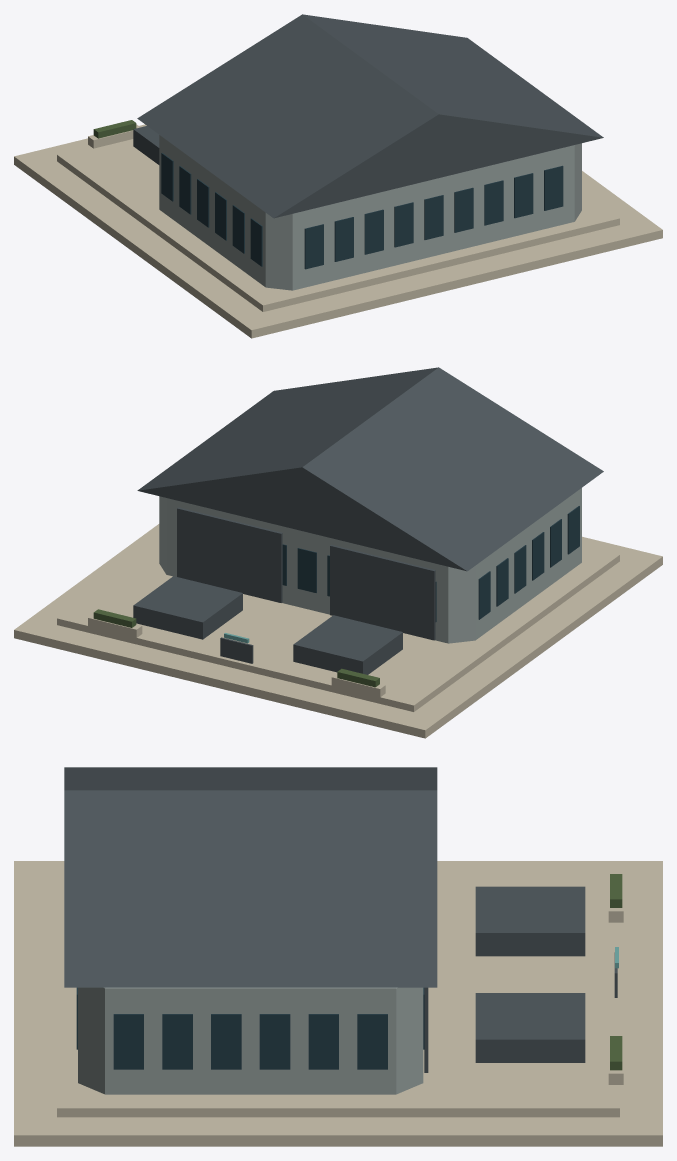
File: unit.glb
The picture shows the model from 3 angles, top to bottom: view 1: azimuth 30°, elevation 25°; view 2: azimuth 150°, elevation 25°; view 3: azimuth 270°, elevation 25°; orthographic projection. The views are drawn at different scales.
Visible parts, largest first — view 1: hangar-roof, motor-depot, foundation, plinth, windows, vehicle-bays; view 2: hangar-roof, plinth, foundation, hangar-doors, motor-depot, vehicle-bays, windows, planters, planting, entry; view 3: hangar-roof, foundation, plinth, motor-depot, vehicle-bays, windows, planting, planters.
Boxes of the visible parts, box(x1,y1,x2,y2) form: hangar-roof: box(137, 14, 603, 218); motor-depot: box(159, 135, 581, 290); foundation: box(14, 124, 662, 338); plinth: box(57, 139, 619, 311); windows: box(161, 153, 563, 269); vehicle-bays: box(133, 126, 159, 164); hangar-roof: box(137, 367, 603, 571); plinth: box(57, 544, 619, 711); foundation: box(14, 524, 662, 738); hangar-doors: box(177, 507, 435, 640); motor-depot: box(159, 488, 581, 643); vehicle-bays: box(133, 576, 402, 674); windows: box(282, 506, 579, 621); planters: box(88, 614, 385, 697); planting: box(93, 609, 379, 687); entry: box(220, 637, 253, 663); hangar-roof: box(64, 767, 437, 987); foundation: box(14, 861, 662, 1146); plinth: box(57, 870, 619, 1117); motor-depot: box(78, 987, 423, 1094); vehicle-bays: box(475, 886, 585, 1062); windows: box(76, 987, 424, 1069); planting: box(610, 874, 622, 1070); planters: box(608, 879, 623, 1084).
Size of the model in its own units: 15.52 by 5.79 by 15.52.
